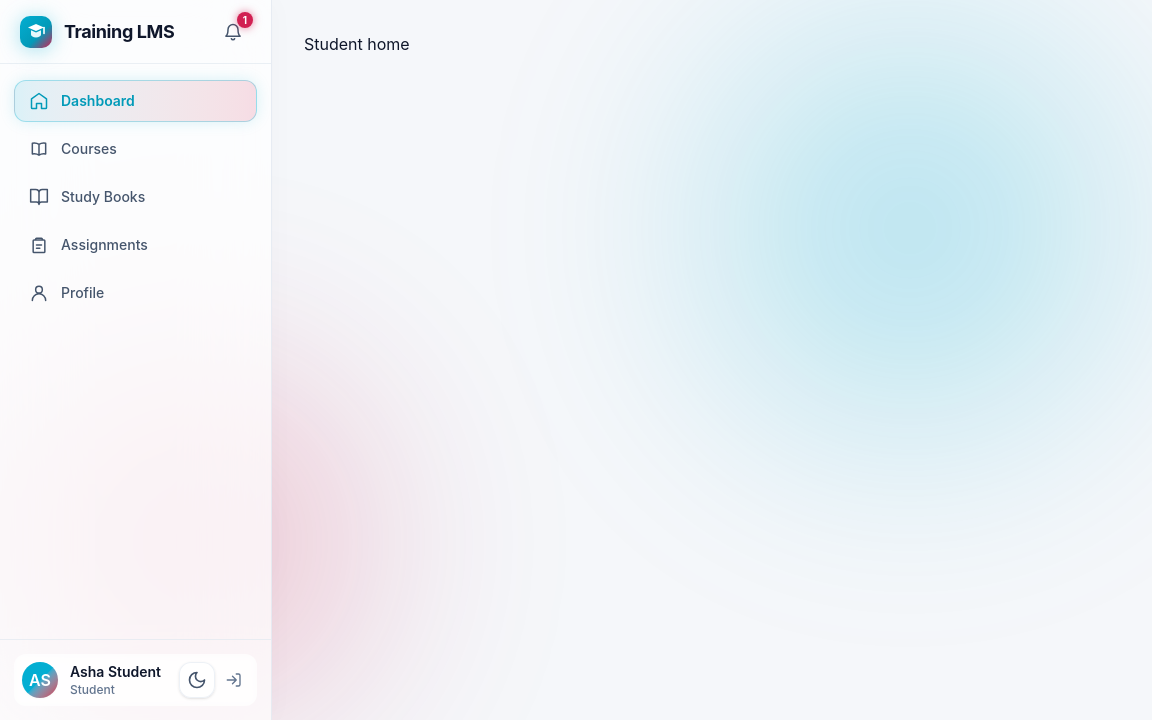
Test case: notification bell › opens the latest notifications; Escape closes them and returns focus to the bell
The width and height of the screenshot is (1152, 720).
Step 1. Click the button named "Notifications, 1 unread" → [233, 32], box [215,14,251,50]
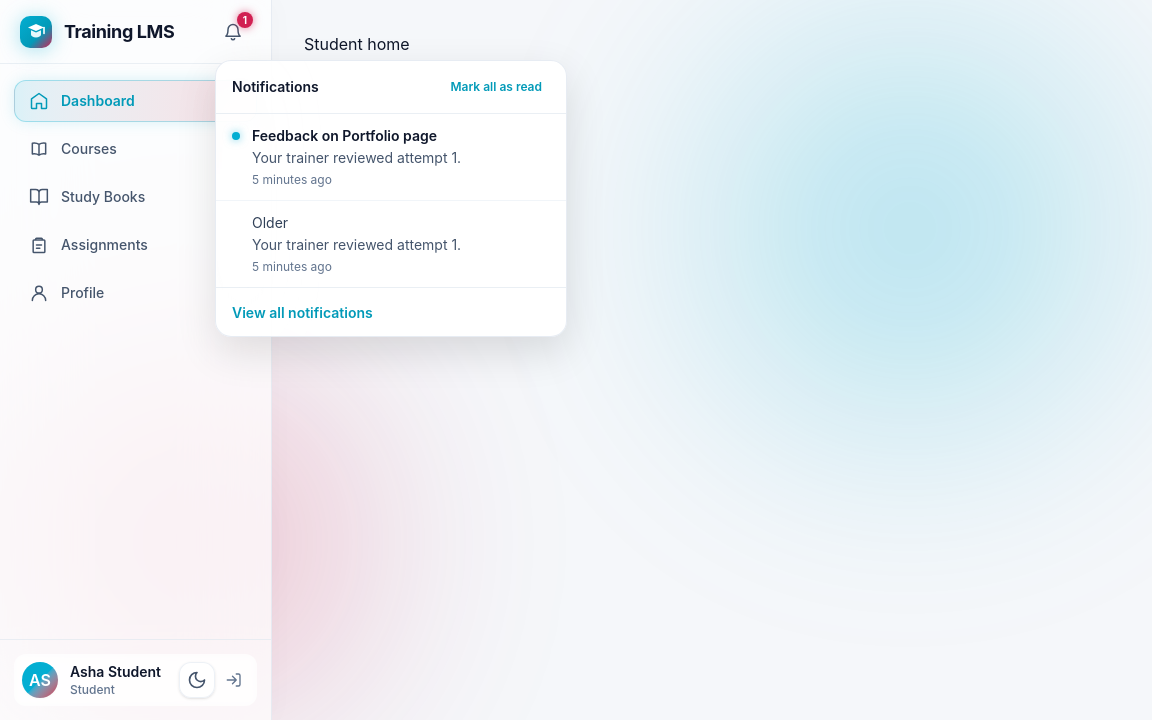
Result: the link "Older" is shown at [252,214,288,230]
Step 2. Press Escape
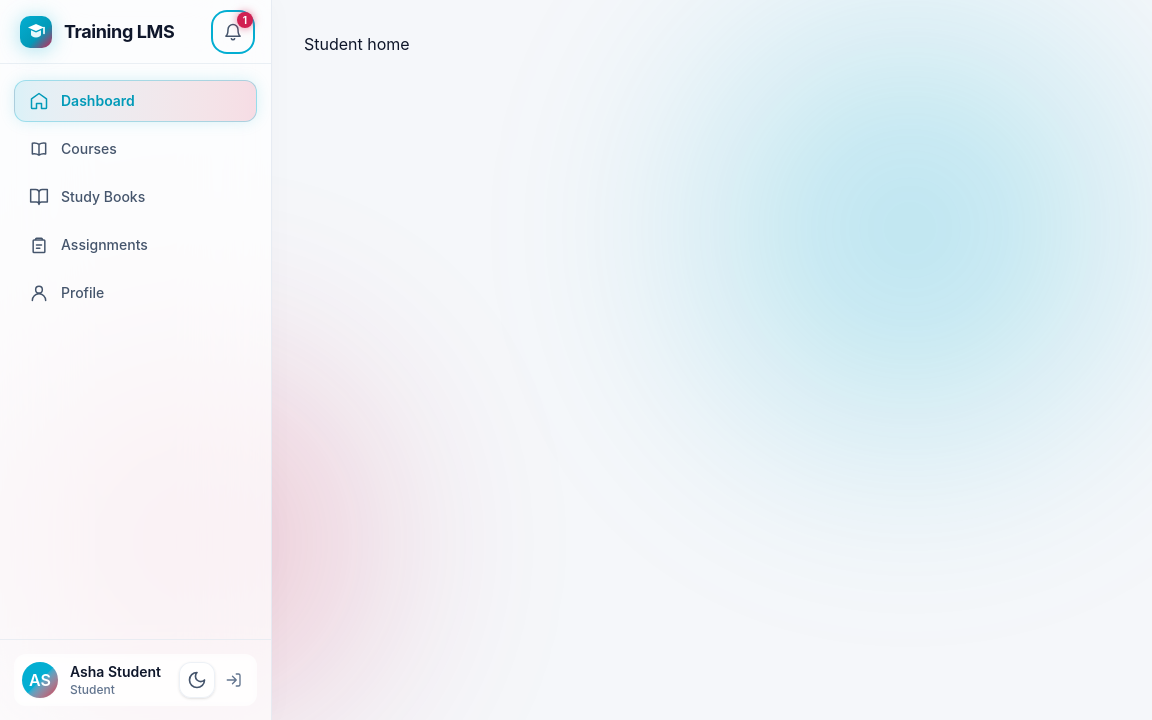
Result: the heading "Notifications" is gone
